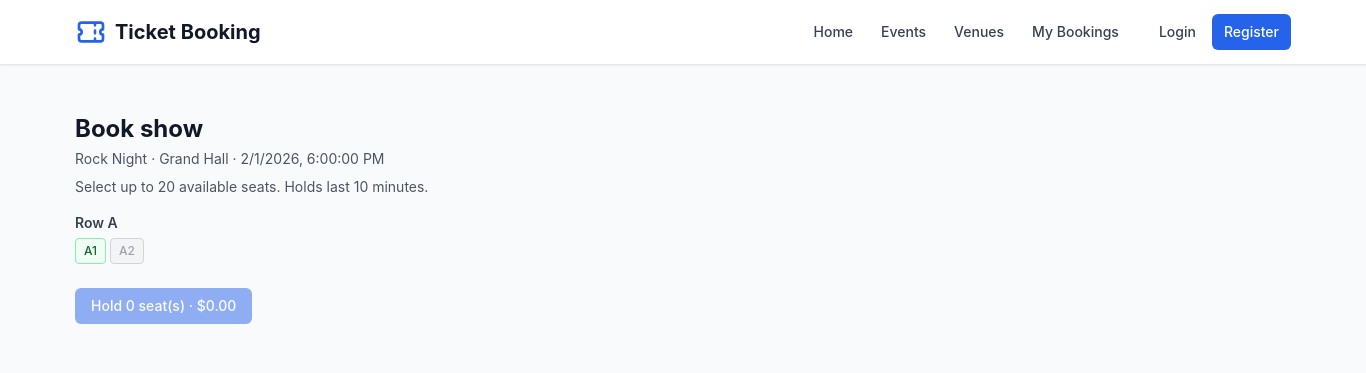
Test case: booking pages › shows seat-unavailable backend errors on the book page
Click the button named "Seat A1" at x=90, y=251, box [75, 238, 106, 264]
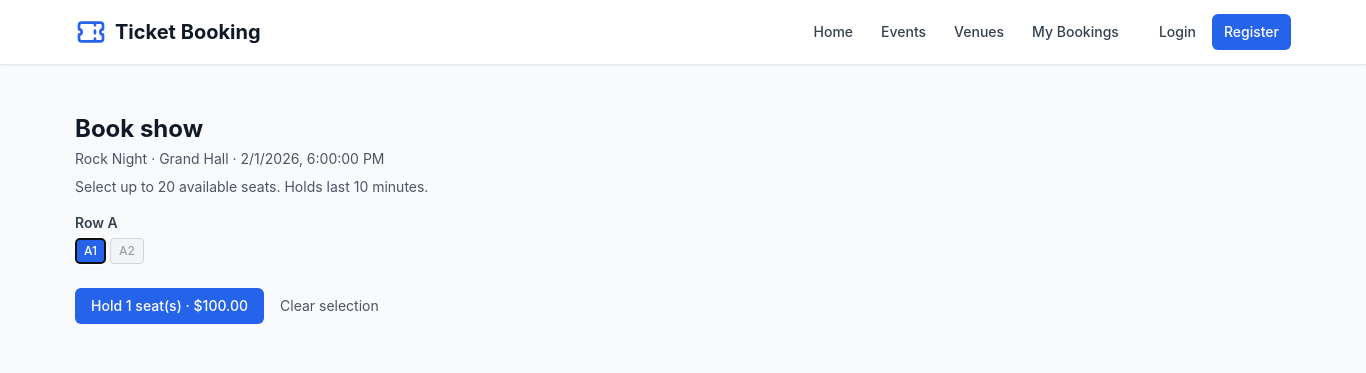
Click the button "Hold 1 seat(s) · $100.00" at x=170, y=306, box [75, 288, 264, 324]
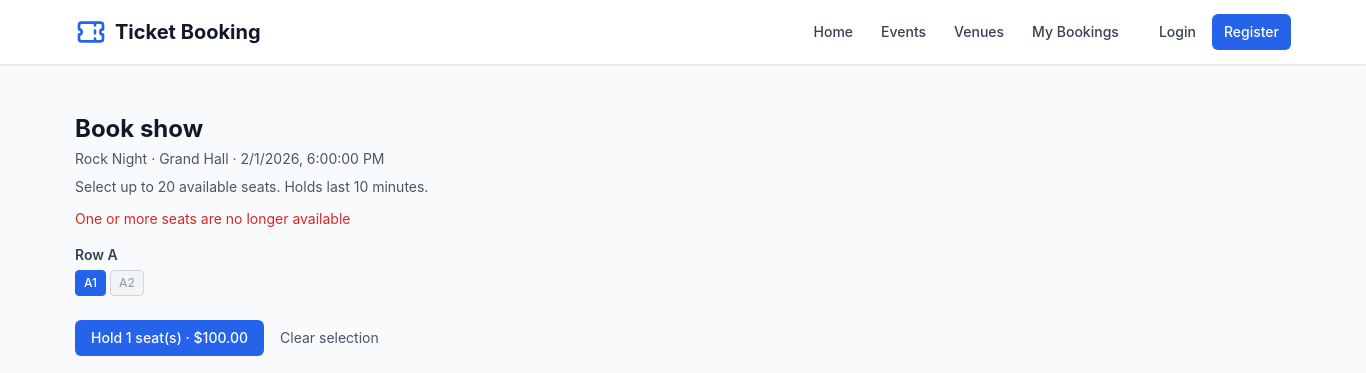
Now the message shows "no longer available", box [75, 210, 350, 227]
